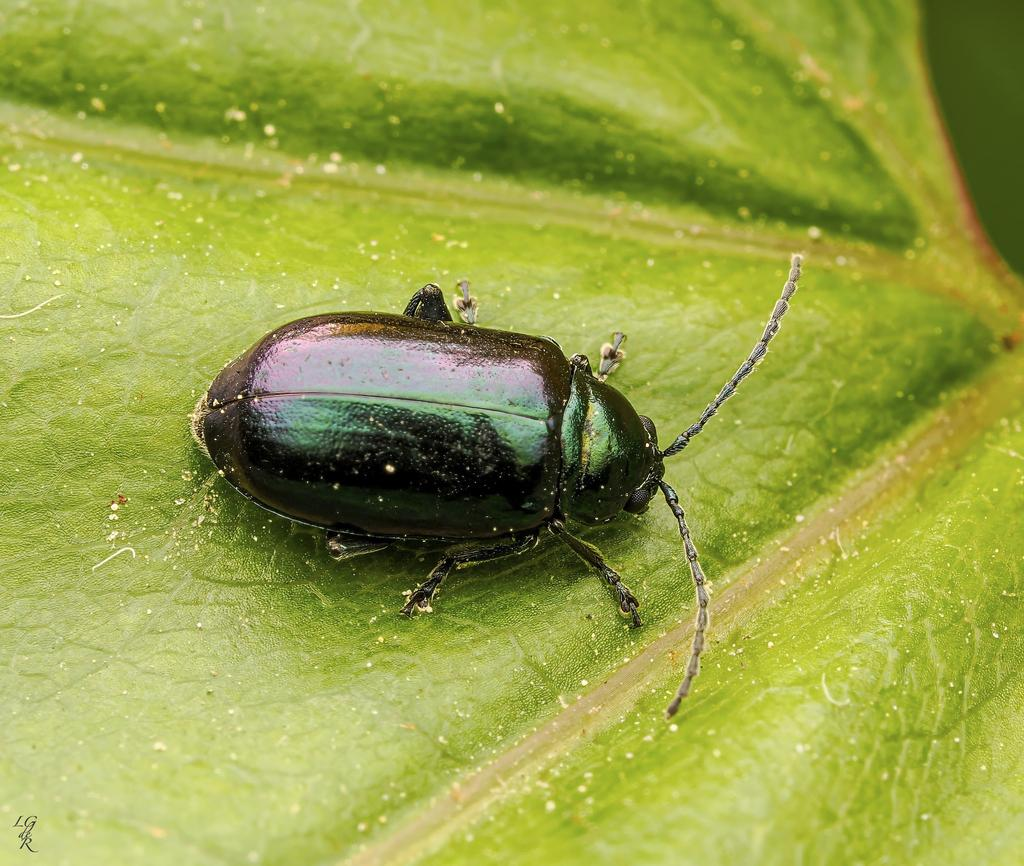flea_beetle: (172, 179, 872, 781)
